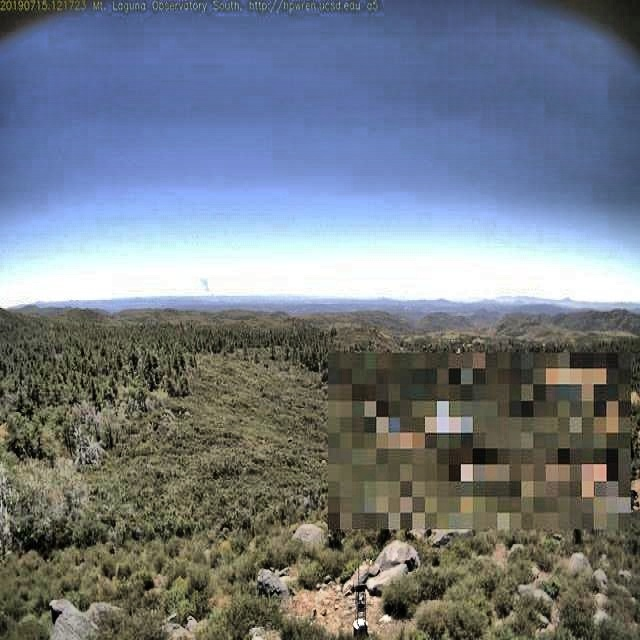smoke: (193, 273, 213, 299)
